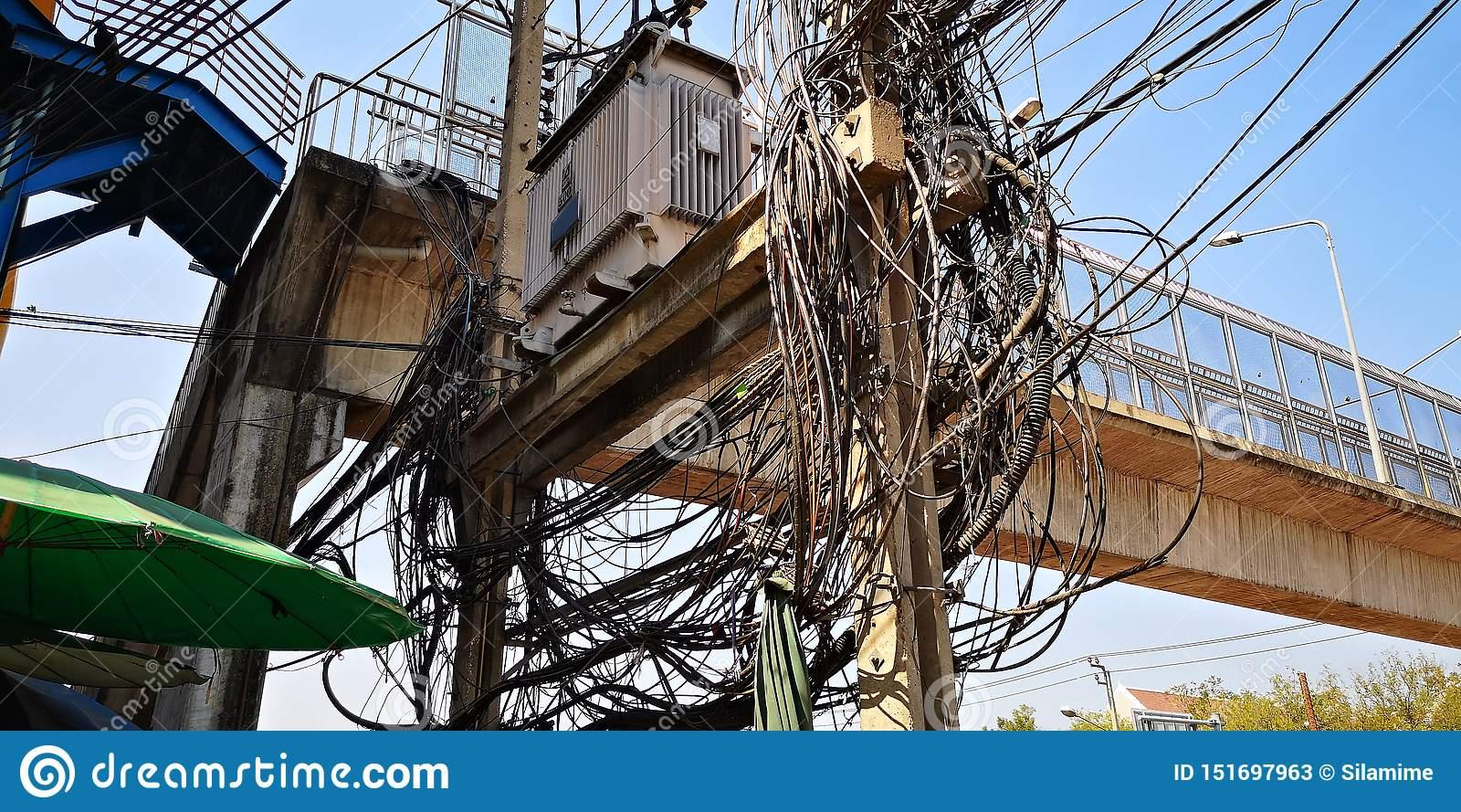wires: (747, 9, 1119, 680), (475, 377, 740, 728)
